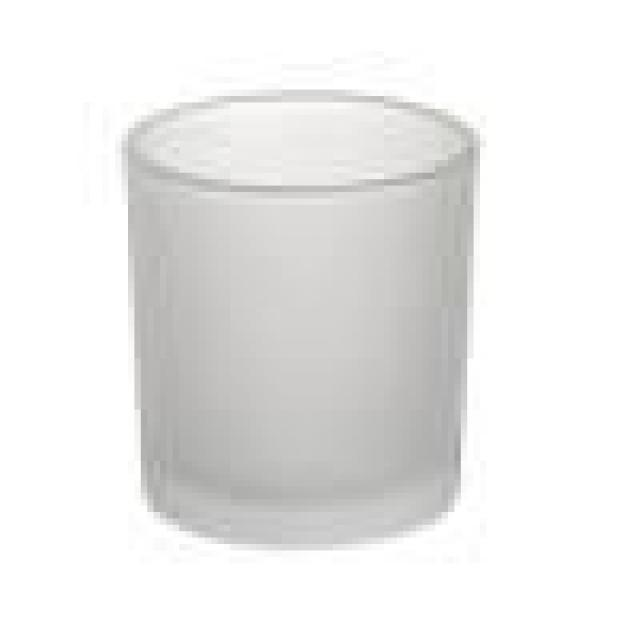glass: (118, 86, 490, 554)
